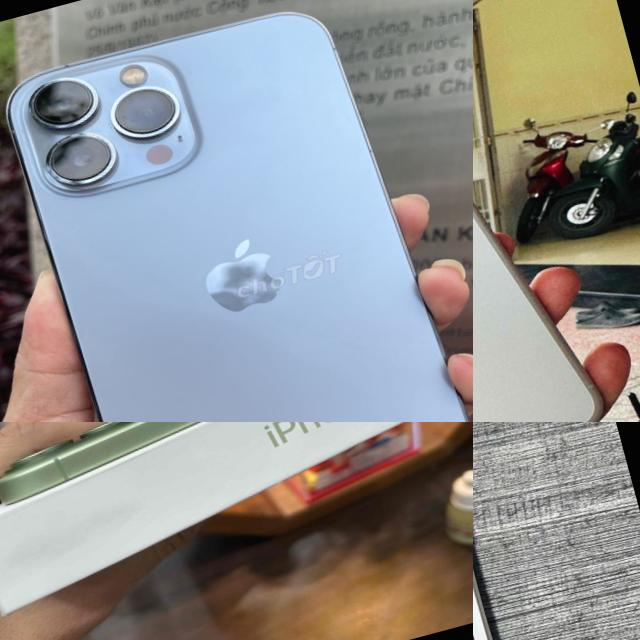gen_12_13: (0, 0, 473, 422)
gen_17: (473, 64, 620, 422), (0, 422, 194, 504)
gen_7_8: (473, 422, 581, 640)
